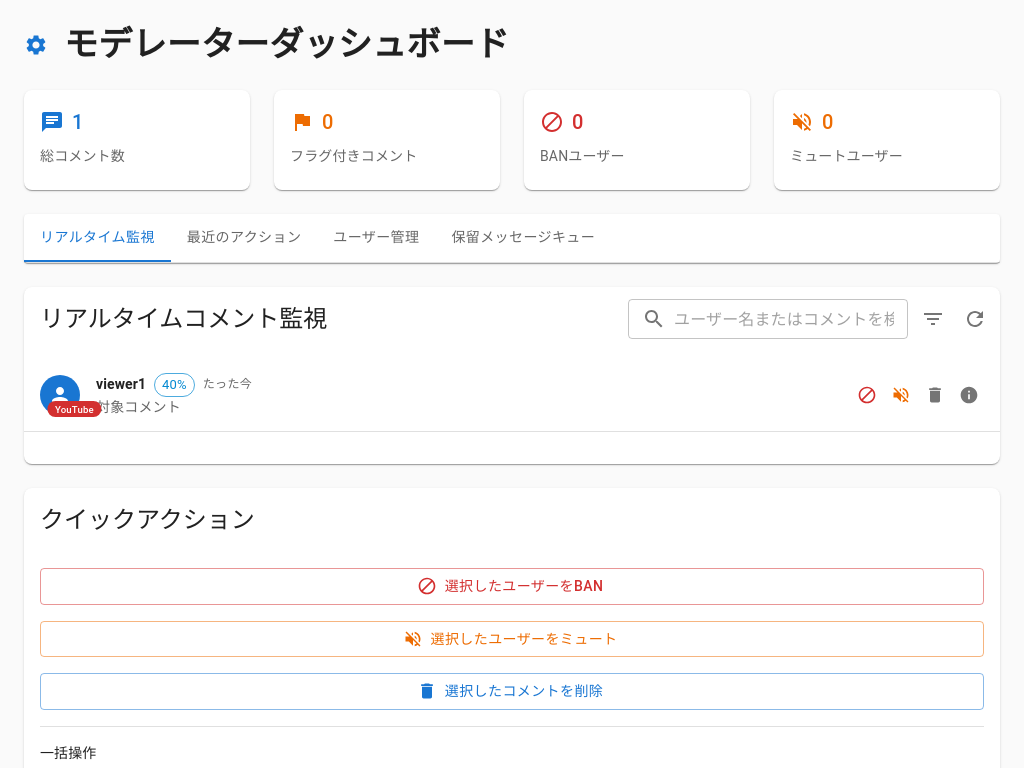
モデレーション履歴に架空データを混ぜないこと › 操作していなければ履歴は空で、架空のユーザー名が出ない
Expected: the text "対象コメント" is shown, top-left (96, 399), bottom-right (181, 415)
Click the tab "最近のアクション" at (244, 238), box top-left (171, 214), bottom-right (317, 262)
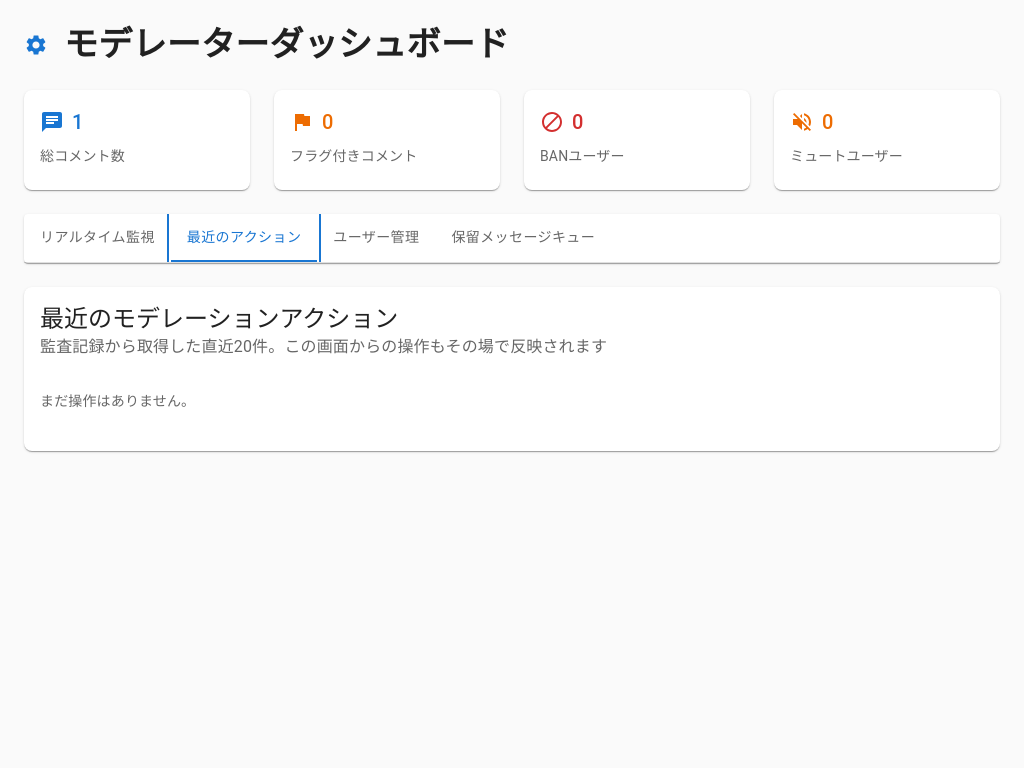
Expected: the text "まだ操作はありません。" is shown, top-left (40, 393), bottom-right (195, 409)
